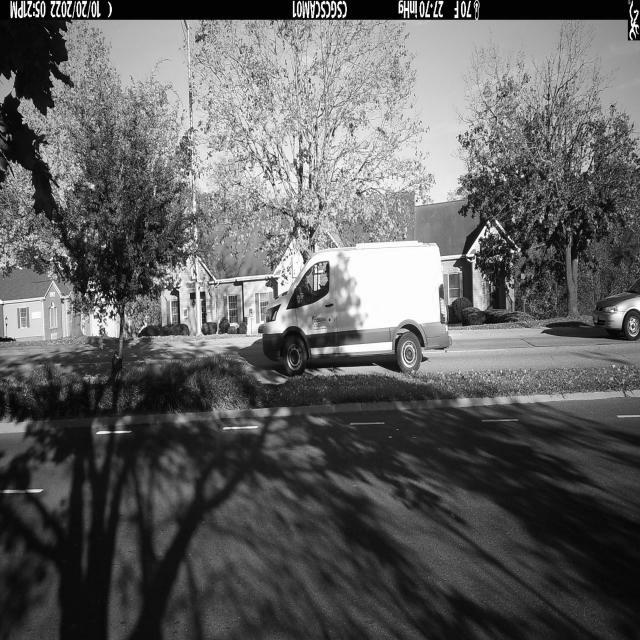Van: (263, 241, 453, 376)
